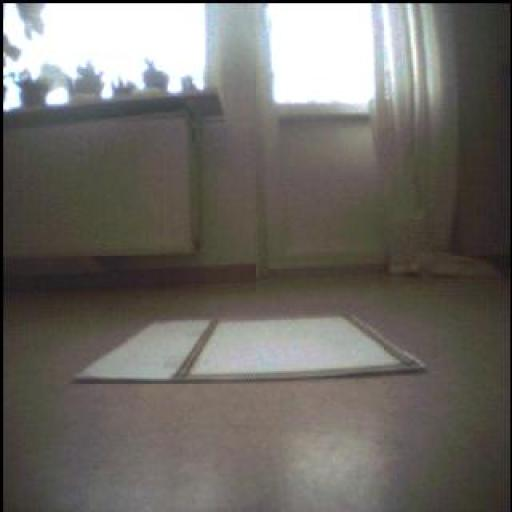Pad: (75, 310, 426, 382)
